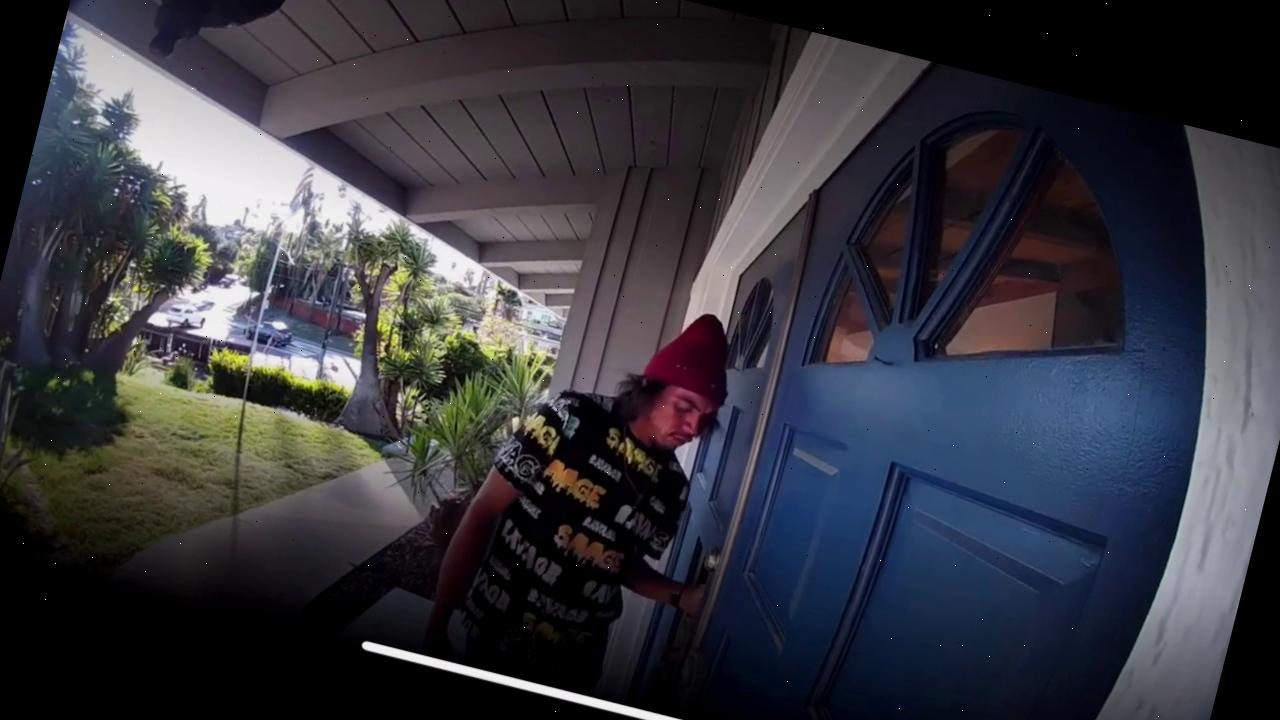suspicion: (432, 250, 816, 706)
